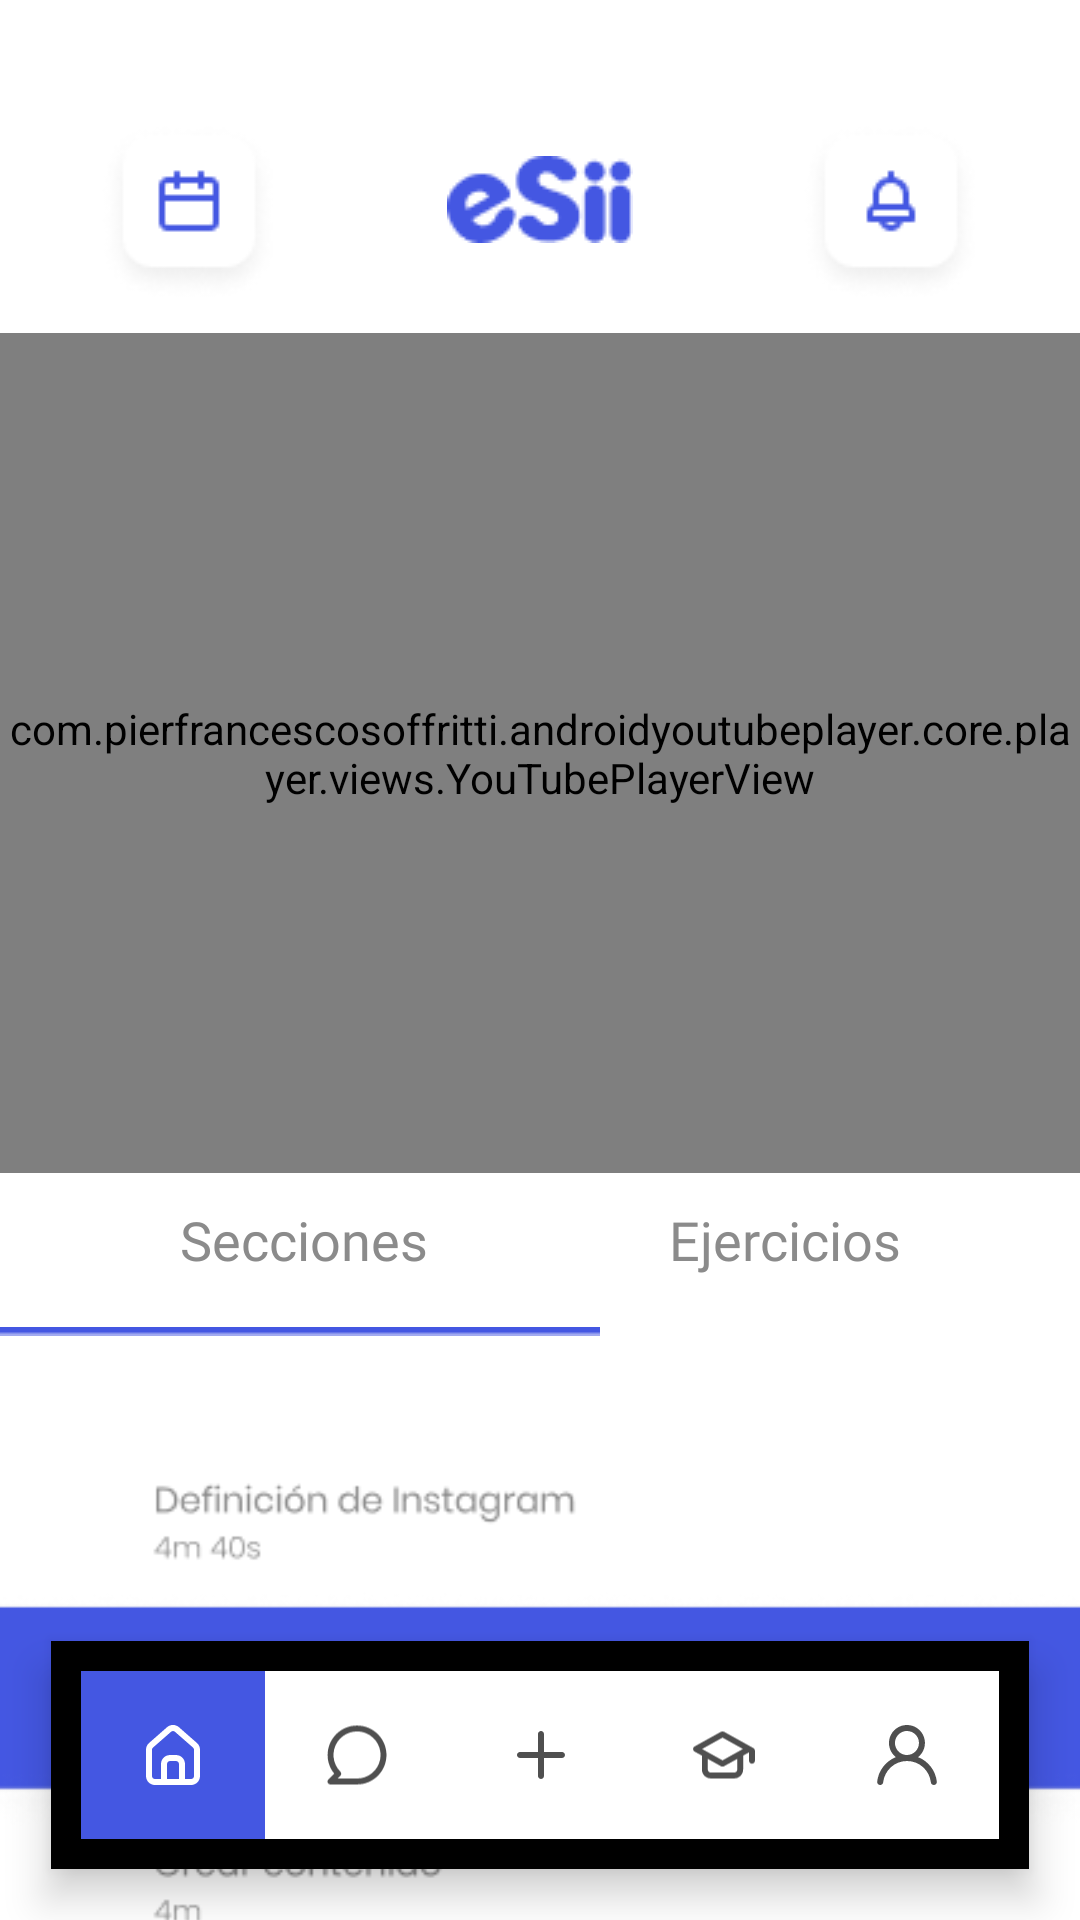

Icons on this 1080*1920 Android screen, each with the point to tap as (x=x, y=y):
cal: (x=189, y=201)
noti: (x=891, y=201)
